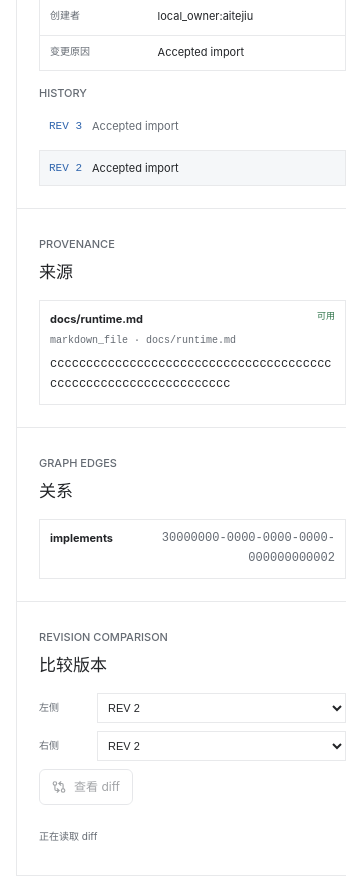
KnowledgeArticlePage › reads an exact revision and requests a bounded diff from history
This screenshot has width=358, height=876.
(page scrolled)
Select "REV 2" in the dropdown named "对比左侧 revision". click: (222, 708)
box: left=97, top=693, right=346, bottom=723
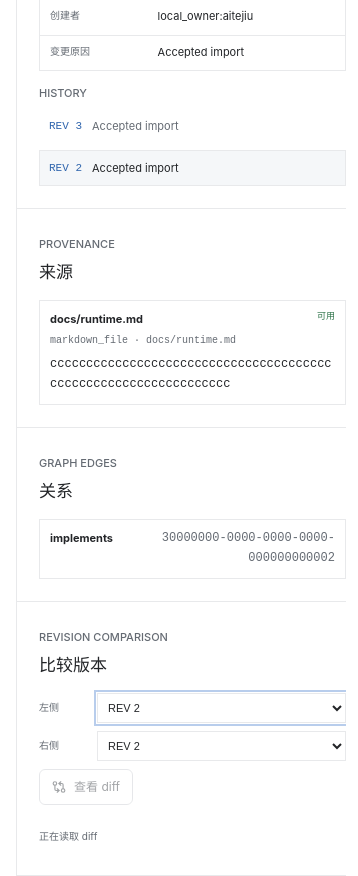
Select "REV 3" in the dropdown named "对比右侧 revision". click: (222, 746)
box: left=97, top=731, right=346, bottom=761
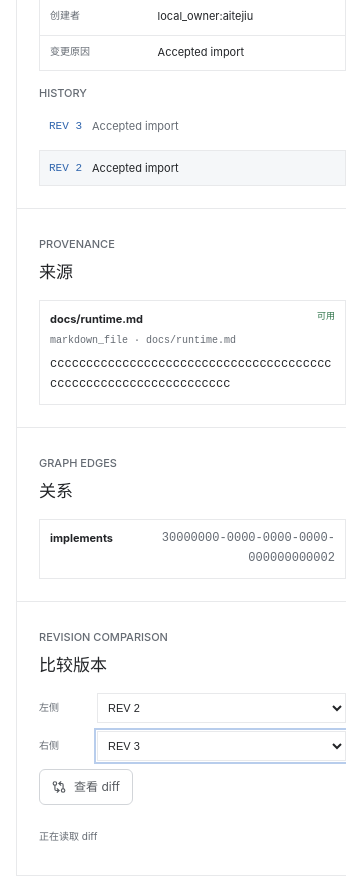
Click the button "查看 diff". click: (86, 787)
box: left=39, top=769, right=133, bottom=805
(page scrolled)
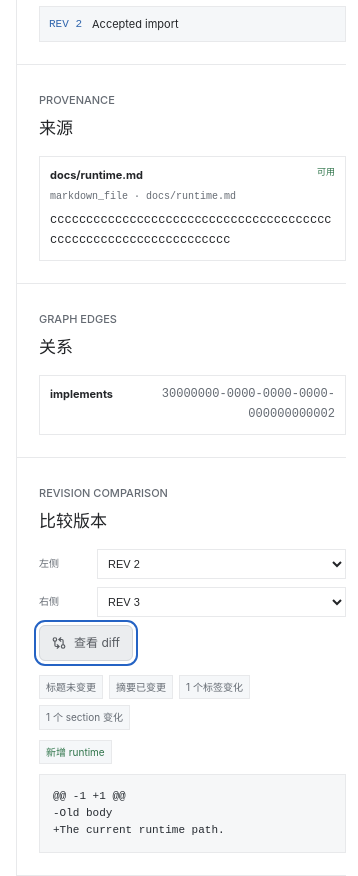
Result: the text "@@ -1 +1 @@ -Old body +The current runtime path." is shown at left=39, top=774, right=346, bottom=853
Result: the text "新增 runtime" is shown at left=39, top=740, right=112, bottom=764
